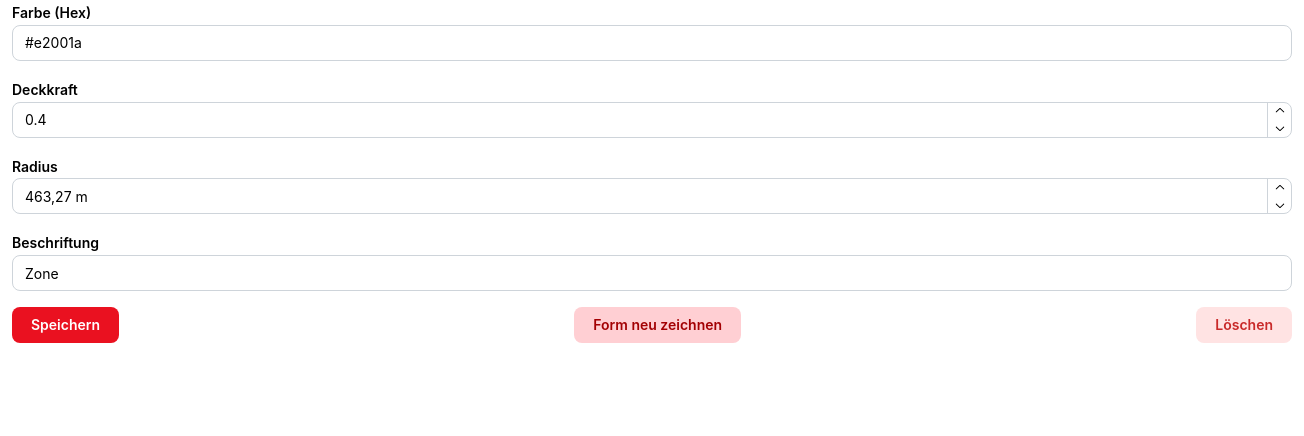
Test: AreaEditor › clears the radius error once the radius is valid again
Step 1. Replace the text in the field labelled "Radius" with "0" → x=652, y=196, box [12, 178, 1292, 214]
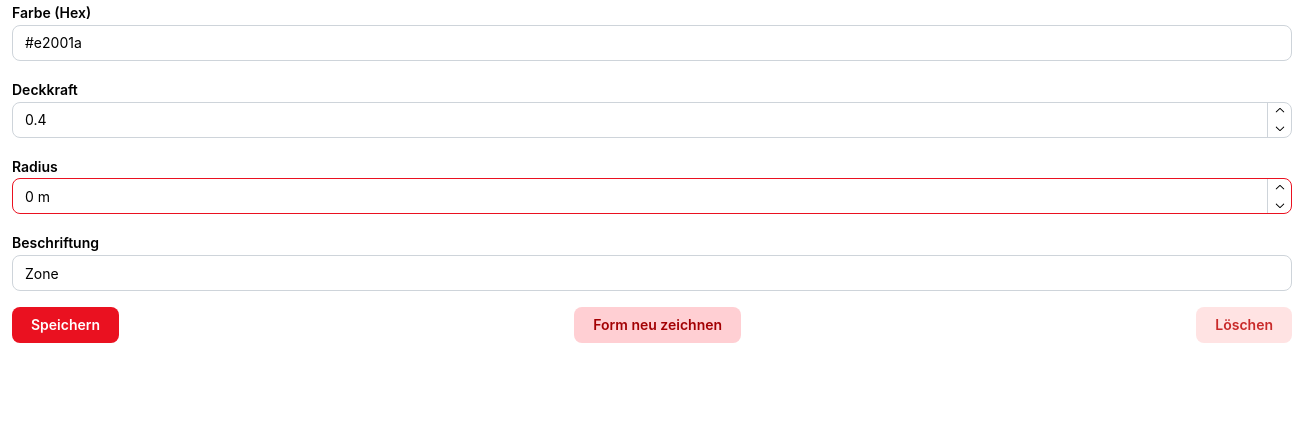
Step 2. Click the button "Speichern" → x=66, y=325, box [12, 307, 119, 343]
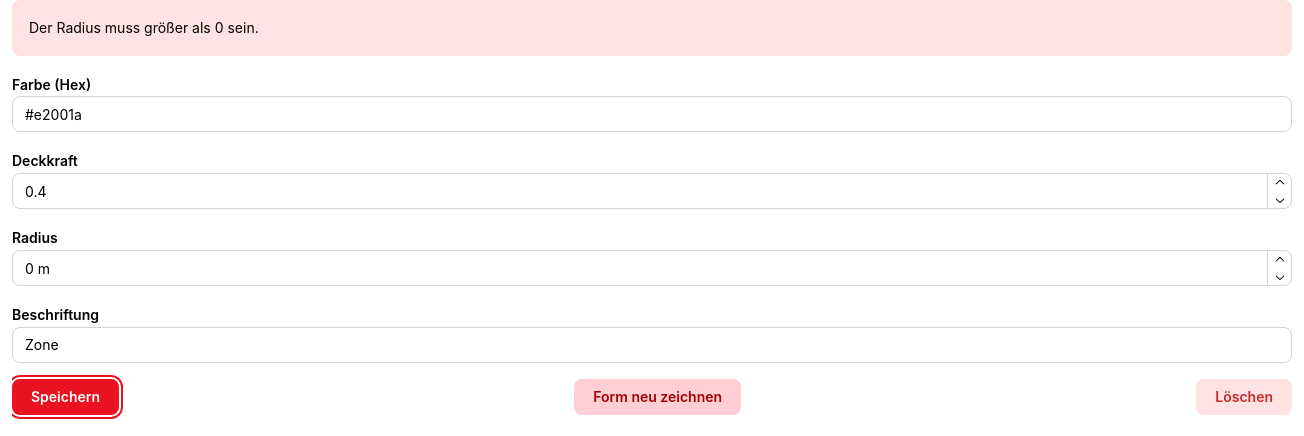
Step 3. Replace the text in the field labelled "Radius" with "463,27" → x=652, y=268, box [12, 250, 1292, 286]
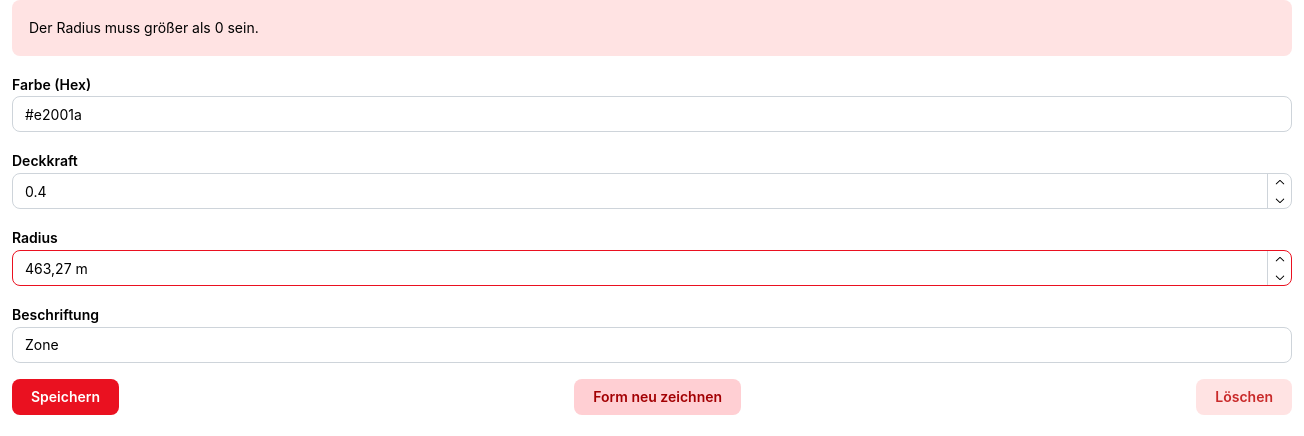
Step 4. Click the button "Speichern" → x=66, y=397, box [12, 379, 119, 415]
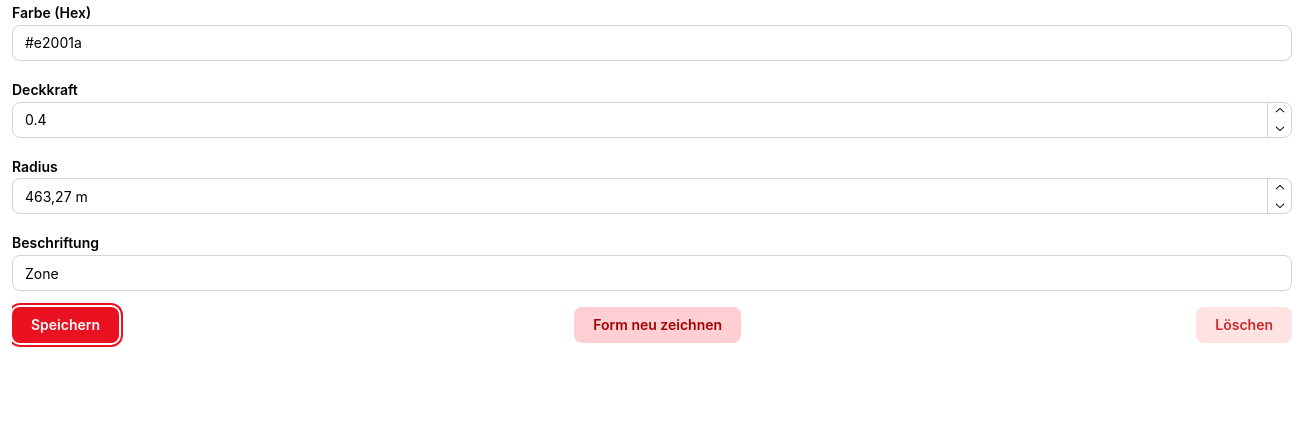
Check: the message "Der Radius muss größer als 0 sein." is gone
